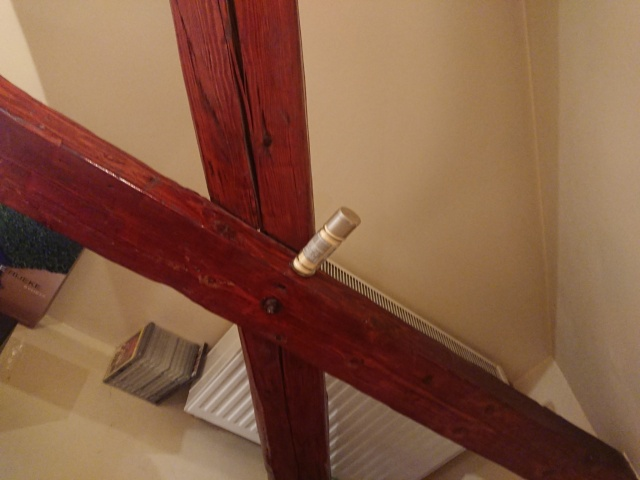Kotanyi Garlic Granules 70g: (287, 205, 363, 280)
